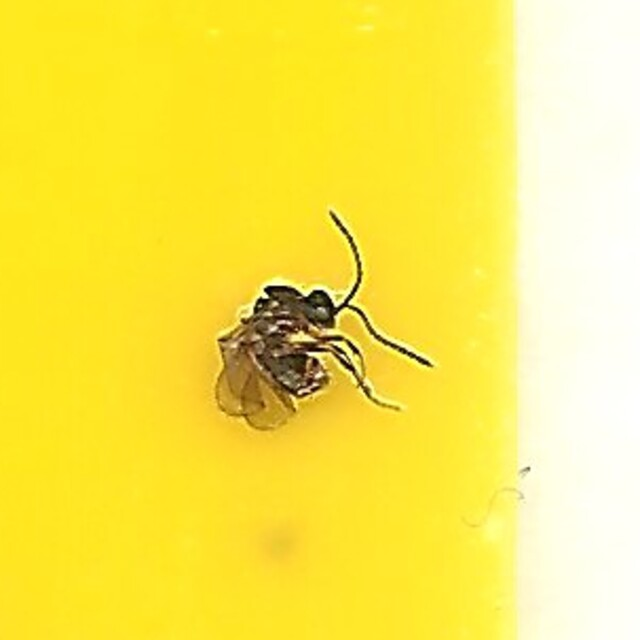Hymenoptera: (211, 213, 429, 427)
